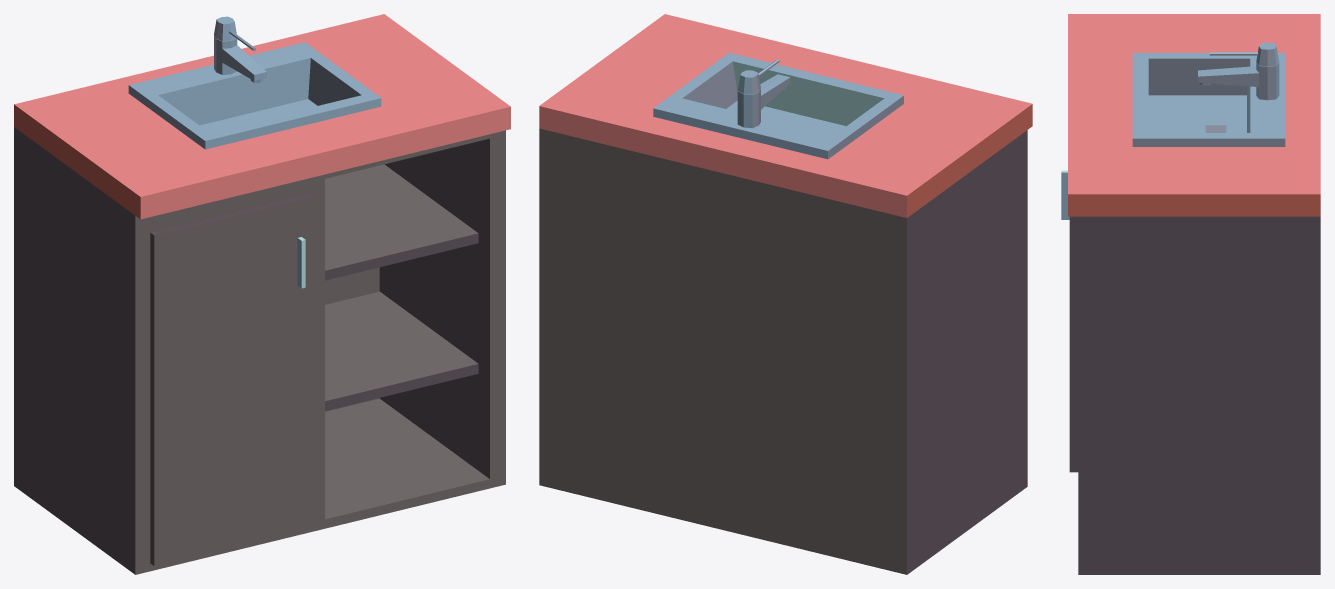
Rendered from Vanity.fbx.
The picture shows the model from 3 angles, left to right: view 1: azimuth 30°, elevation 25°; view 2: azimuth 150°, elevation 25°; view 3: azimuth 270°, elevation 25°; orthographic projection.
Visible parts, largest first — view 1: Vanity; view 2: Vanity; view 3: Vanity.
Boxes of the visible parts, x1,y1,x2,y2 form: Vanity: (14, 14, 510, 574); Vanity: (539, 14, 1032, 574); Vanity: (1061, 14, 1320, 574).
Size of the model in its own units: 200 by 227 by 121.
